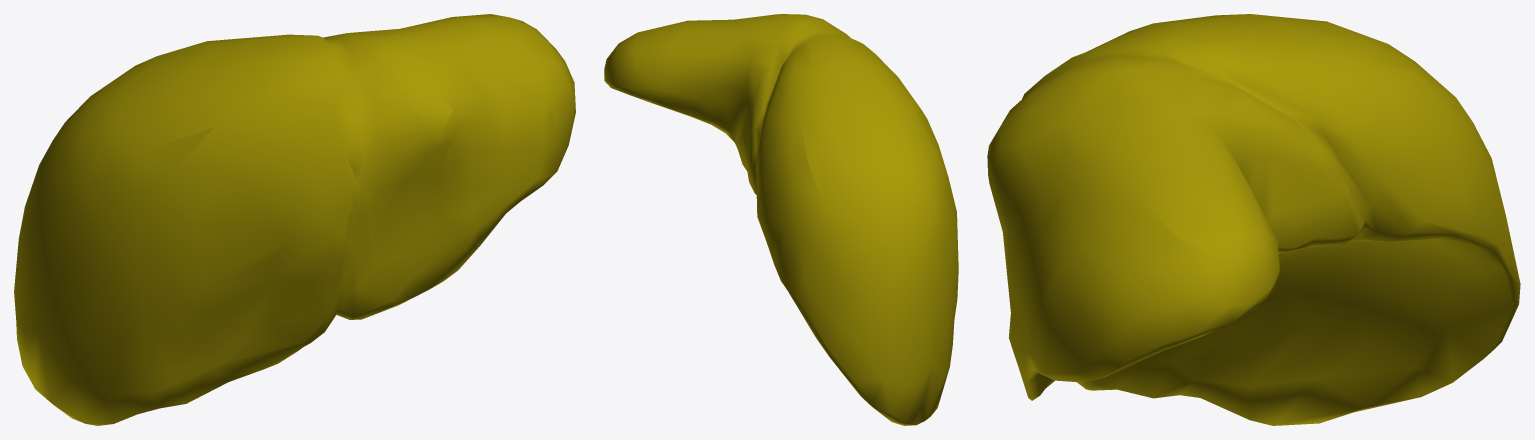
Rendered from organs_liver_collision.obj.
The picture shows the model from 3 angles, left to right: view 1: azimuth 30°, elevation 25°; view 2: azimuth 150°, elevation 25°; view 3: azimuth 270°, elevation 25°; orthographic projection. The views are drawn at different scales.
Parts seen in each view (by area): view 1: Liver_polySurface1.004; view 2: Liver_polySurface1.004; view 3: Liver_polySurface1.004.
Boxes of the visible parts, x1,y1,x2,y2 form: Liver_polySurface1.004: [14, 14, 575, 425]; Liver_polySurface1.004: [604, 14, 958, 425]; Liver_polySurface1.004: [987, 14, 1520, 425].
Bounding box in the file's own units: 15.58 × 12.06 × 11.25.
